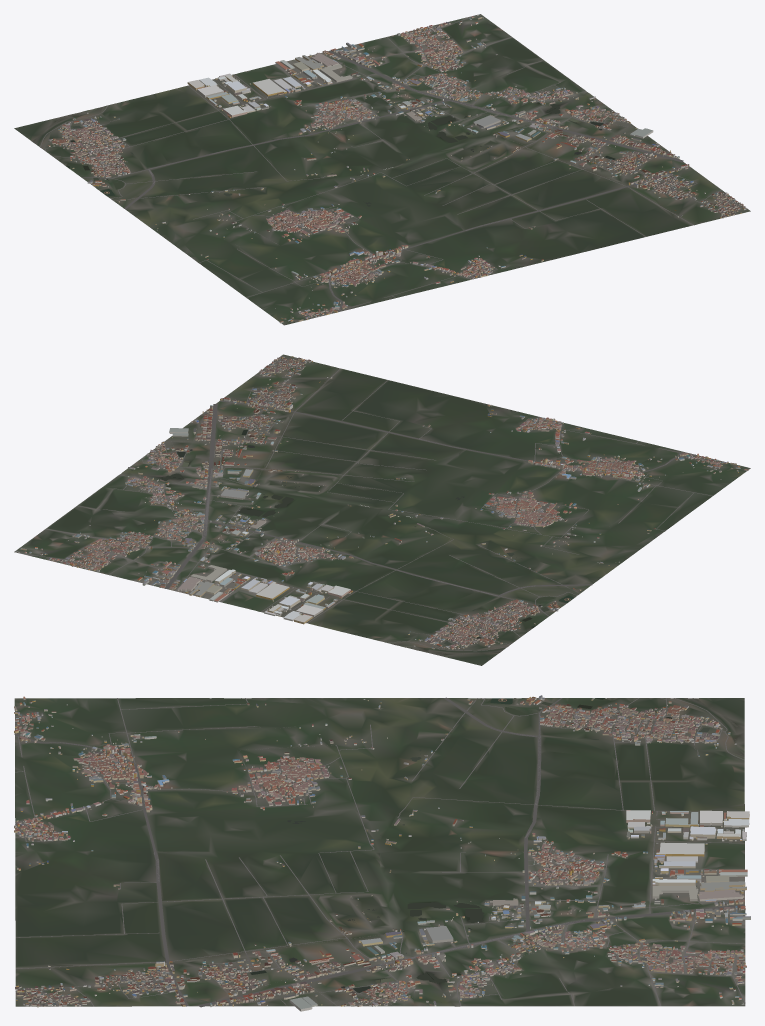
3 views of the same model, one above another, from view 1: azimuth 30°, elevation 25°; view 2: azimuth 150°, elevation 25°; view 3: azimuth 270°, elevation 25° (orthographic). The views are drawn at different scales.
Visible parts, largest first — view 1: ground, buildings, roads, water; view 2: ground, buildings, roads, water; view 3: ground, buildings, roads, water.
Boxes of the visible parts, box(x1,y1,x2,y2) form: ground: box(14, 14, 750, 325); buildings: box(47, 14, 746, 323); roads: box(40, 15, 746, 318); water: box(33, 102, 691, 223); ground: box(14, 354, 750, 665); buildings: box(16, 356, 748, 649); roads: box(18, 359, 723, 651); water: box(131, 368, 574, 654); ground: box(14, 698, 745, 1006); buildings: box(14, 695, 750, 1011); roads: box(14, 697, 745, 1007); water: box(17, 698, 744, 992).
Size of the model in its own units: 2862 by 30.04 by 2832.
